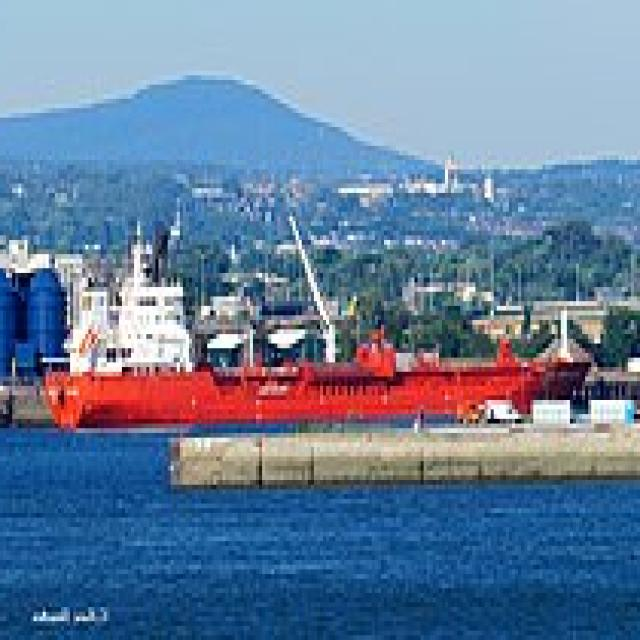Tanker: (39, 216, 604, 433)
